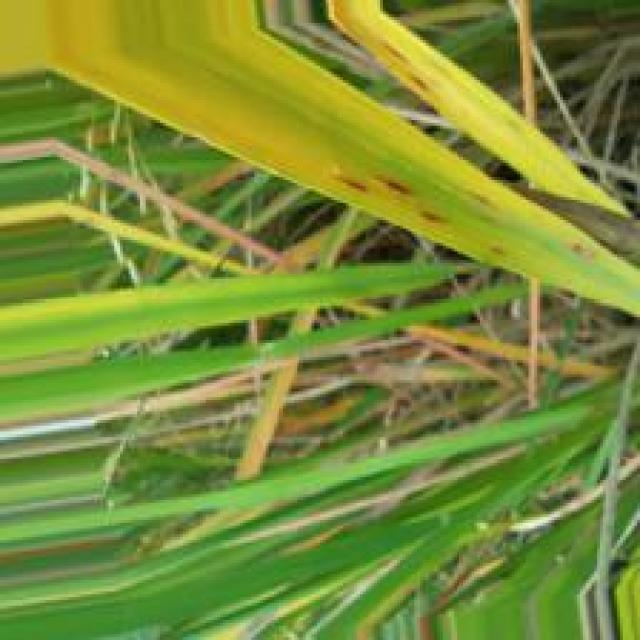Narrow_Brown_Leaf_Spot: (303, 166, 639, 318), (335, 11, 490, 141)
